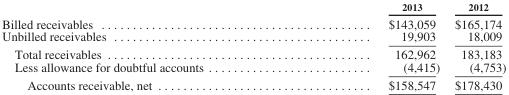table: (1, 0, 505, 91)
table column: (1, 0, 295, 91), (295, 0, 446, 91), (446, 0, 505, 91)
table column header: (1, 0, 505, 14)
table row: (1, 29, 505, 45), (1, 75, 505, 91), (1, 14, 505, 29), (1, 45, 505, 60), (1, 60, 505, 75), (1, 0, 505, 14)
